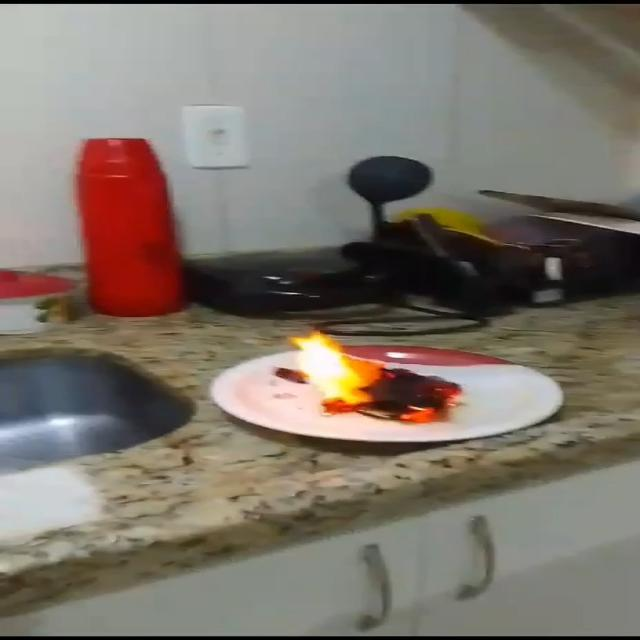fogo-ypXI: (286, 328, 466, 428)
